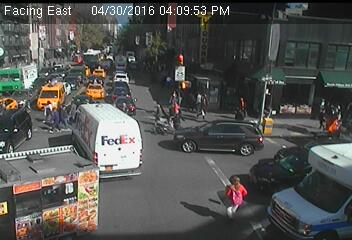neg: (53, 43, 66, 60), (175, 49, 186, 64), (127, 53, 138, 68)
pos: (217, 171, 253, 220), (313, 105, 333, 132), (194, 93, 214, 119), (45, 106, 63, 131), (56, 103, 71, 124), (153, 99, 168, 119), (41, 99, 56, 119), (192, 89, 203, 105), (236, 103, 247, 119), (171, 100, 182, 115)
